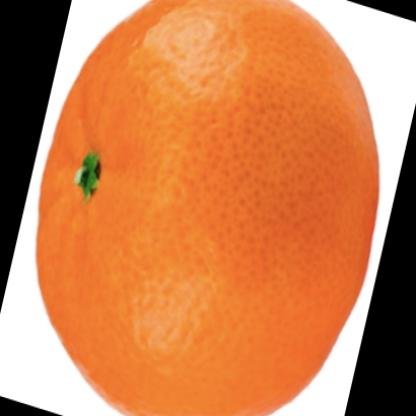fresh: (37, 1, 379, 416)
